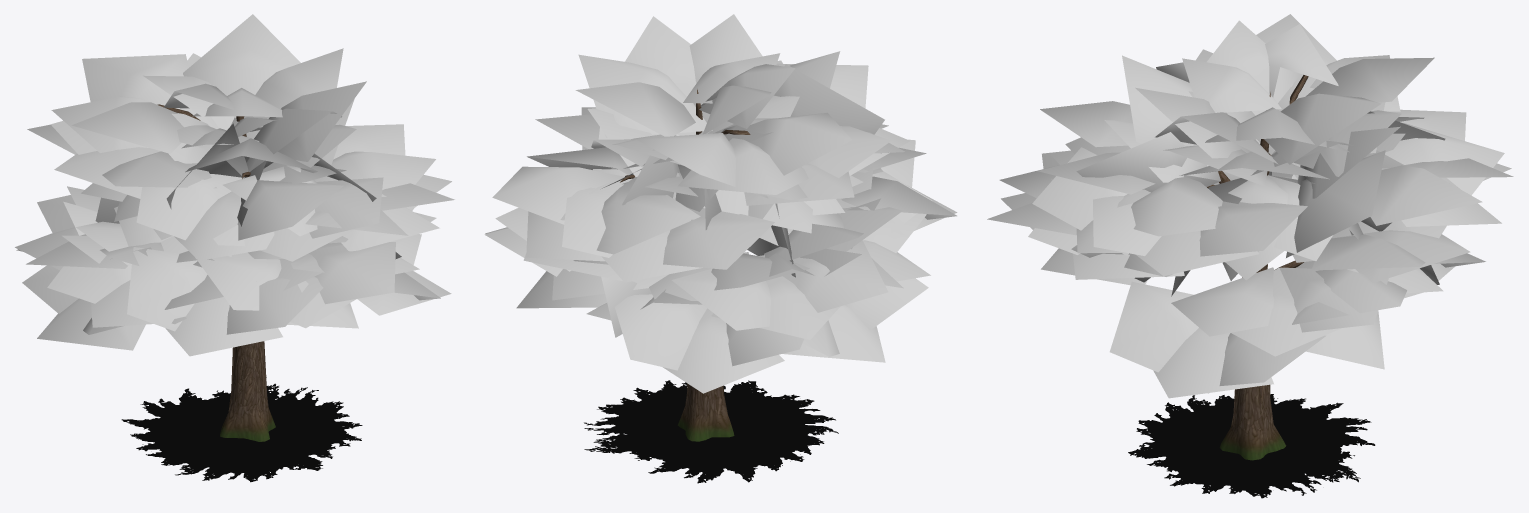
Rendered from Sapindus_Tree.fbx.
The picture shows the model from 3 angles, left to right: view 1: azimuth 30°, elevation 25°; view 2: azimuth 150°, elevation 25°; view 3: azimuth 270°, elevation 25°; orthographic projection. The views are drawn at different scales.
Parts seen in each view (by area): view 1: sapindus_LOD0, Shadow; view 2: sapindus_LOD0, Shadow; view 3: sapindus_LOD0, Shadow.
Boxes of the visible parts, bbox=[...] form: sapindus_LOD0: bbox=[15, 14, 454, 441]; Shadow: bbox=[121, 377, 362, 482]; sapindus_LOD0: bbox=[484, 14, 957, 441]; Shadow: bbox=[584, 380, 838, 483]; sapindus_LOD0: bbox=[987, 14, 1513, 460]; Shadow: bbox=[1128, 394, 1375, 498].
Size of what is drawn, in the model's own units: 1097 by 1017 by 1250.
